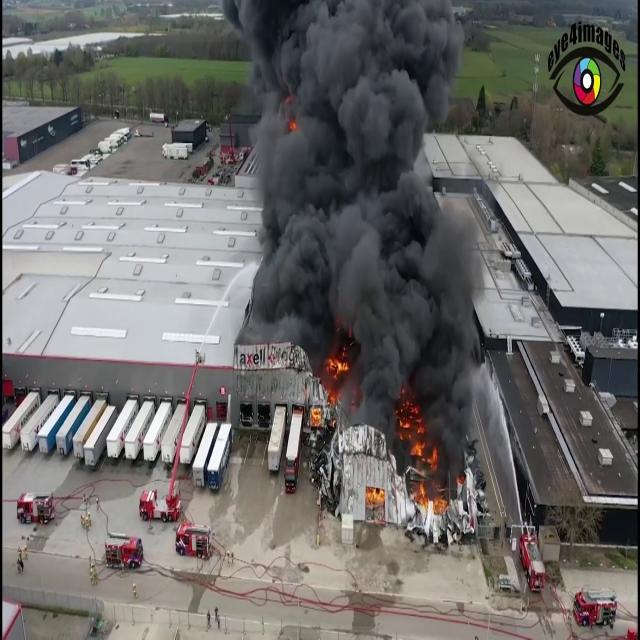Smoke: (228, 0, 497, 362)
